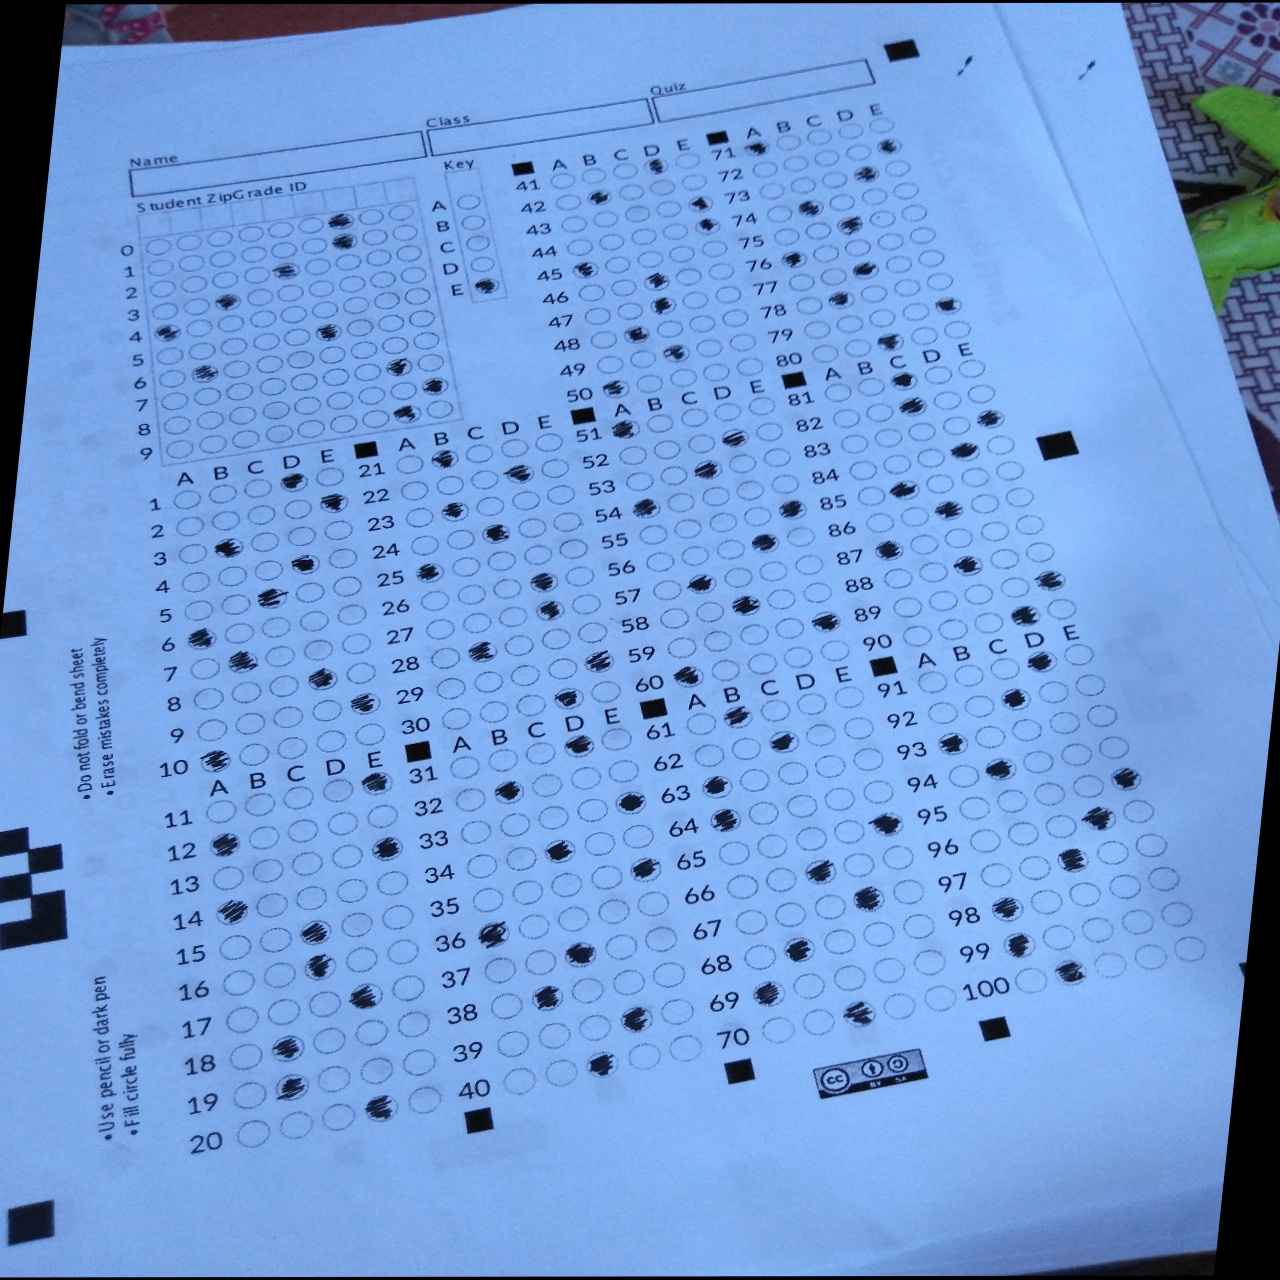not-c: (535, 1021, 576, 1050), (399, 1049, 440, 1078), (377, 903, 418, 932), (309, 1026, 350, 1055), (350, 1017, 392, 1047), (602, 932, 642, 961), (651, 960, 690, 989), (608, 966, 648, 995), (485, 992, 525, 1021), (493, 1029, 533, 1058), (666, 1034, 706, 1063), (388, 972, 428, 1001), (373, 870, 413, 899), (277, 1111, 316, 1141), (218, 968, 258, 998), (216, 933, 256, 962), (257, 926, 297, 955), (288, 849, 328, 878), (321, 809, 361, 838), (247, 857, 287, 886), (207, 863, 247, 892), (200, 798, 240, 828), (278, 784, 318, 813), (358, 1057, 399, 1085), (641, 925, 680, 954), (567, 975, 606, 1005), (625, 1042, 663, 1071), (499, 1067, 538, 1096), (382, 938, 421, 967), (333, 874, 372, 904), (338, 908, 376, 938), (342, 945, 381, 974), (231, 1081, 270, 1110), (261, 961, 300, 990), (252, 891, 291, 920), (328, 843, 367, 872), (240, 791, 279, 821), (319, 776, 358, 805), (658, 998, 697, 1026), (393, 1010, 433, 1039), (313, 1064, 353, 1092), (233, 1121, 273, 1149), (363, 803, 403, 831), (284, 817, 324, 845), (1039, 922, 1078, 951), (1169, 934, 1208, 962), (879, 993, 919, 1021), (758, 1017, 798, 1046), (829, 964, 869, 992), (910, 949, 949, 978), (898, 913, 938, 941), (859, 919, 899, 947), (819, 928, 859, 956), (740, 942, 779, 971), (811, 894, 851, 922), (888, 878, 928, 906), (576, 1014, 614, 1042), (542, 1058, 580, 1087), (406, 1085, 444, 1114), (319, 1102, 358, 1130), (225, 1042, 264, 1070), (264, 999, 302, 1027), (292, 883, 331, 911), (1118, 907, 1157, 935), (1131, 942, 1170, 971), (921, 983, 960, 1012), (798, 1009, 837, 1037), (790, 972, 829, 1000), (731, 907, 770, 935), (771, 900, 810, 928), (880, 843, 919, 871), (839, 849, 878, 877), (305, 990, 345, 1017), (223, 1007, 263, 1034), (243, 824, 282, 851), (1091, 951, 1131, 978), (869, 956, 908, 983), (1077, 915, 1116, 942), (1010, 966, 1049, 993), (509, 878, 545, 906), (549, 871, 585, 899), (1092, 840, 1131, 866), (782, 794, 821, 819), (503, 845, 539, 872), (497, 811, 533, 838), (523, 741, 559, 768), (535, 804, 571, 831), (567, 765, 604, 792), (605, 757, 641, 784), (598, 726, 634, 753), (620, 823, 656, 850), (517, 914, 553, 941), (522, 948, 558, 975), (482, 956, 518, 983), (736, 767, 772, 794), (967, 828, 1005, 853), (1003, 821, 1041, 846), (976, 862, 1014, 887), (1027, 890, 1064, 915), (831, 819, 869, 845), (821, 787, 858, 812), (850, 747, 887, 772), (728, 736, 765, 762), (756, 697, 794, 723), (831, 685, 869, 710), (1068, 775, 1107, 799), (1041, 813, 1080, 838), (1065, 881, 1104, 906), (971, 610, 1006, 636), (471, 886, 506, 913), (529, 771, 564, 798), (588, 864, 624, 891), (583, 831, 618, 858), (576, 797, 611, 824), (635, 891, 670, 918), (554, 905, 590, 932), (595, 898, 632, 924), (1016, 855, 1053, 880), (763, 866, 799, 892), (716, 840, 753, 866), (859, 779, 896, 805), (745, 801, 782, 826), (774, 760, 810, 785), (945, 764, 982, 789), (1019, 749, 1056, 774), (1107, 874, 1144, 899), (754, 835, 791, 859), (794, 692, 831, 716), (937, 617, 971, 644), (900, 622, 935, 648), (816, 638, 851, 663), (736, 622, 771, 648), (485, 747, 520, 772), (812, 753, 847, 778), (1096, 735, 1132, 760), (1032, 782, 1068, 806), (956, 796, 993, 821), (1132, 832, 1169, 857), (1159, 901, 1196, 926), (794, 828, 830, 852), (840, 716, 877, 741), (802, 722, 838, 747), (683, 712, 720, 736), (1034, 680, 1071, 703), (924, 701, 961, 724), (745, 652, 779, 678), (701, 628, 735, 654), (784, 524, 819, 549), (670, 516, 706, 540), (663, 490, 699, 515), (751, 421, 787, 445), (710, 399, 745, 423), (462, 441, 497, 465), (509, 489, 544, 513), (444, 527, 479, 552), (556, 537, 591, 561), (476, 699, 511, 723), (561, 564, 597, 588), (588, 680, 624, 704), (338, 631, 373, 655), (334, 602, 369, 627), (207, 509, 243, 533), (278, 496, 313, 520), (321, 517, 356, 542), (1058, 742, 1094, 767), (1121, 798, 1156, 823), (1146, 866, 1182, 891), (692, 742, 727, 767), (914, 669, 951, 693), (961, 695, 998, 719), (1008, 719, 1044, 742), (1046, 710, 1082, 734), (994, 790, 1030, 813), (724, 874, 761, 898), (781, 646, 815, 670), (708, 658, 742, 682), (772, 617, 806, 641), (665, 635, 699, 660), (658, 607, 692, 632), (642, 550, 676, 574), (678, 544, 712, 568), (726, 452, 760, 477), (636, 524, 670, 549), (745, 394, 779, 418), (467, 468, 501, 492), (474, 493, 508, 518), (515, 517, 549, 542), (520, 543, 554, 567), (484, 550, 518, 574), (459, 610, 493, 634), (513, 694, 547, 719), (508, 663, 542, 688), (568, 592, 602, 617), (429, 646, 463, 670), (422, 617, 456, 641), (440, 707, 474, 731), (309, 699, 343, 723), (270, 704, 304, 729), (192, 686, 226, 710), (195, 719, 229, 743), (301, 638, 335, 662), (297, 610, 331, 634), (183, 598, 217, 622), (181, 570, 215, 594), (205, 481, 239, 505), (215, 564, 248, 588), (244, 503, 278, 527), (241, 475, 275, 499), (285, 524, 319, 549), (447, 755, 481, 779), (792, 553, 828, 577), (720, 565, 755, 588), (733, 479, 768, 503), (621, 470, 656, 493), (683, 433, 719, 456), (532, 430, 567, 454), (397, 478, 433, 502), (537, 457, 572, 481), (448, 554, 483, 578), (452, 583, 488, 606), (471, 670, 506, 694), (502, 634, 537, 658), (490, 577, 525, 600), (313, 730, 348, 754), (274, 737, 309, 761), (232, 712, 267, 735), (229, 681, 264, 704), (343, 662, 379, 686), (263, 645, 298, 668), (259, 617, 294, 640), (331, 574, 366, 598), (218, 593, 253, 617), (168, 488, 203, 511), (326, 547, 361, 571), (452, 787, 488, 810), (465, 855, 501, 878), (987, 656, 1022, 680), (971, 726, 1006, 749), (1084, 703, 1119, 727), (905, 421, 939, 444), (821, 381, 855, 404), (862, 402, 896, 425), (693, 599, 727, 622), (764, 588, 798, 612), (801, 581, 835, 605), (756, 559, 790, 583), (651, 579, 685, 602), (714, 538, 748, 561), (699, 485, 733, 509), (767, 474, 801, 497), (656, 464, 690, 488), (617, 444, 651, 468), (649, 437, 683, 461), (760, 445, 794, 469), (678, 406, 712, 429), (644, 410, 678, 434), (497, 436, 531, 459), (392, 452, 425, 476), (433, 474, 467, 497), (544, 484, 578, 508), (403, 505, 437, 529), (407, 535, 441, 558), (550, 511, 584, 535), (418, 588, 452, 612), (495, 606, 529, 629), (576, 621, 610, 645), (546, 658, 580, 681), (539, 627, 573, 651), (433, 676, 467, 700), (353, 723, 387, 747), (237, 743, 271, 767), (267, 675, 301, 699), (190, 658, 224, 681), (223, 621, 257, 645), (294, 581, 328, 605), (176, 542, 210, 565), (173, 515, 207, 538), (251, 559, 285, 583), (247, 531, 281, 554), (314, 465, 348, 489), (459, 821, 493, 844), (1073, 673, 1107, 696), (951, 663, 986, 686), (881, 452, 914, 476), (829, 406, 862, 429), (962, 584, 995, 607), (999, 576, 1032, 599), (377, 334, 411, 356), (965, 383, 999, 406), (922, 472, 956, 495), (930, 390, 964, 413), (881, 566, 915, 588), (706, 512, 740, 535), (741, 505, 775, 527), (915, 448, 947, 471), (838, 433, 870, 456), (872, 427, 904, 450), (941, 415, 973, 438), (927, 588, 959, 612), (352, 362, 384, 384), (809, 341, 842, 363), (1003, 485, 1036, 508), (978, 519, 1010, 542), (907, 532, 940, 554), (898, 505, 931, 527), (968, 492, 1001, 515), (845, 458, 878, 481), (922, 363, 955, 386), (855, 376, 887, 399), (917, 561, 949, 584), (1046, 597, 1078, 619), (891, 595, 924, 618), (1061, 644, 1094, 666), (908, 325, 942, 346), (992, 459, 1026, 481), (1012, 513, 1046, 535), (942, 527, 976, 549), (348, 340, 380, 362), (375, 312, 407, 334), (857, 282, 888, 305), (324, 390, 356, 411), (686, 314, 719, 335), (608, 278, 641, 299), (588, 207, 621, 229), (941, 318, 974, 339), (842, 336, 874, 358), (956, 358, 989, 379), (1023, 542, 1056, 563), (987, 549, 1020, 570), (863, 512, 896, 533), (855, 485, 887, 506), (959, 467, 992, 488), (983, 435, 1017, 455), (355, 386, 387, 407), (343, 318, 375, 339), (340, 295, 372, 316), (367, 268, 399, 290), (216, 312, 247, 333), (183, 316, 215, 338), (217, 336, 248, 358), (291, 395, 322, 416), (295, 418, 327, 440), (263, 424, 294, 445), (230, 429, 261, 450), (197, 434, 229, 455), (653, 319, 685, 340), (693, 216, 724, 237), (595, 232, 627, 253), (628, 227, 660, 248), (666, 243, 697, 264), (699, 238, 730, 259), (634, 248, 666, 270), (673, 267, 704, 288), (712, 285, 743, 306), (719, 308, 750, 329), (654, 198, 686, 219), (678, 172, 709, 193), (578, 166, 610, 188), (640, 156, 672, 177), (147, 279, 179, 299), (248, 332, 281, 352), (704, 263, 737, 282), (679, 290, 712, 309), (842, 238, 874, 258), (802, 319, 835, 339), (890, 278, 922, 298), (686, 195, 719, 215), (279, 304, 309, 325), (157, 368, 188, 389), (320, 366, 350, 387), (614, 301, 645, 322), (647, 177, 678, 198), (621, 203, 652, 224), (393, 243, 424, 263), (406, 308, 437, 328), (328, 414, 360, 434), (338, 274, 369, 294), (306, 278, 338, 298), (244, 287, 275, 307), (309, 299, 341, 319), (182, 297, 213, 316), (155, 345, 186, 365), (284, 349, 315, 369), (316, 345, 348, 365), (257, 376, 288, 396), (224, 381, 256, 401), (161, 415, 192, 435), (195, 410, 226, 430), (467, 254, 498, 274), (576, 282, 607, 302), (734, 358, 765, 377), (693, 338, 724, 358), (659, 222, 690, 241), (907, 226, 939, 246), (874, 232, 906, 252), (787, 273, 818, 293), (795, 295, 826, 315), (835, 314, 866, 334), (915, 248, 947, 268), (585, 188, 617, 207), (922, 271, 955, 290), (178, 275, 209, 295), (302, 257, 333, 277), (410, 331, 441, 350), (370, 290, 401, 309), (275, 282, 306, 302), (247, 308, 278, 328), (150, 301, 181, 321), (188, 341, 218, 361), (281, 327, 312, 347), (220, 358, 251, 377), (253, 354, 284, 374), (290, 372, 320, 392), (192, 386, 223, 406), (159, 392, 190, 411), (226, 406, 257, 425), (260, 400, 291, 420), (164, 440, 195, 459), (558, 215, 588, 234), (588, 331, 619, 350), (595, 355, 626, 375), (634, 373, 665, 393), (701, 362, 731, 382), (615, 183, 646, 203), (891, 181, 921, 200), (866, 307, 897, 327), (900, 301, 931, 321), (299, 237, 331, 256), (207, 271, 239, 290), (332, 253, 363, 272), (359, 229, 390, 247), (384, 204, 416, 223), (360, 410, 392, 429), (462, 233, 493, 252), (564, 238, 595, 257), (727, 334, 758, 353), (810, 244, 842, 263), (883, 256, 914, 274), (356, 207, 386, 227), (611, 161, 640, 181), (774, 132, 803, 152), (845, 142, 874, 162), (779, 154, 809, 173), (788, 175, 817, 195), (821, 169, 850, 189), (883, 158, 912, 178), (803, 222, 832, 241), (899, 203, 928, 223), (241, 266, 272, 285), (363, 248, 394, 267), (399, 265, 429, 284), (424, 400, 455, 418), (388, 381, 418, 400), (454, 192, 484, 211), (549, 172, 579, 191), (552, 193, 583, 212), (583, 306, 613, 325), (627, 350, 658, 369), (667, 368, 697, 387), (818, 267, 849, 286), (812, 147, 840, 166), (751, 159, 779, 179), (862, 186, 890, 206), (772, 226, 801, 246), (869, 209, 897, 229), (236, 225, 267, 243), (390, 224, 420, 243), (403, 286, 433, 305), (416, 353, 445, 372), (458, 215, 488, 233), (804, 127, 833, 145), (866, 116, 896, 135), (764, 204, 794, 223), (143, 238, 173, 256), (172, 234, 203, 252), (204, 230, 234, 247), (266, 222, 297, 239), (295, 217, 326, 234), (239, 245, 270, 263), (177, 256, 207, 273), (672, 152, 702, 170), (758, 182, 787, 200), (826, 193, 855, 212), (270, 241, 299, 259), (207, 251, 237, 268), (836, 123, 865, 141), (147, 259, 177, 275)
taken-c: (268, 1032, 308, 1064), (560, 939, 601, 971), (361, 1092, 401, 1124), (583, 1049, 622, 1081), (617, 1005, 656, 1036), (474, 920, 515, 951), (272, 1070, 312, 1101), (529, 983, 568, 1014), (799, 858, 840, 887), (847, 885, 888, 914), (748, 979, 789, 1008), (301, 952, 339, 983), (779, 934, 819, 964), (838, 1001, 878, 1030), (1000, 931, 1040, 960), (1053, 845, 1092, 874), (1081, 805, 1121, 835), (1107, 764, 1148, 792), (347, 982, 386, 1012), (611, 790, 651, 818), (549, 686, 588, 714), (1050, 958, 1090, 986), (986, 896, 1026, 924), (297, 919, 335, 947), (627, 856, 666, 884), (490, 778, 529, 806), (697, 772, 736, 801), (542, 837, 579, 865), (867, 811, 905, 839), (559, 733, 598, 760), (581, 648, 620, 675), (463, 639, 502, 666), (706, 806, 744, 833), (213, 898, 251, 925), (370, 836, 407, 863), (981, 756, 1017, 783), (1024, 647, 1061, 674), (869, 537, 907, 561), (935, 731, 971, 758), (998, 685, 1033, 712), (767, 729, 803, 755), (1008, 602, 1046, 627), (949, 554, 987, 579), (928, 499, 966, 524), (885, 478, 922, 503), (947, 441, 985, 465), (477, 523, 512, 549), (429, 447, 464, 472), (720, 704, 755, 730), (205, 832, 241, 857), (1033, 568, 1069, 593), (972, 408, 1008, 433), (670, 663, 704, 689), (347, 692, 382, 716), (526, 571, 561, 595), (438, 501, 474, 525), (502, 462, 537, 486), (886, 370, 922, 394), (533, 598, 567, 622), (413, 560, 447, 585), (809, 610, 843, 634), (212, 537, 247, 560), (226, 651, 261, 674), (198, 749, 233, 772), (618, 324, 653, 347), (690, 458, 726, 482), (628, 497, 663, 520), (728, 593, 763, 617), (897, 395, 932, 418), (185, 627, 219, 651), (304, 668, 338, 692), (361, 771, 395, 795), (608, 417, 642, 441), (719, 425, 753, 449), (599, 377, 633, 401), (749, 531, 783, 554), (685, 572, 719, 595), (775, 248, 810, 271), (568, 258, 601, 281), (288, 553, 322, 576), (256, 587, 290, 610), (873, 331, 907, 353), (931, 294, 965, 316), (824, 290, 858, 312), (847, 260, 881, 282), (849, 163, 883, 185), (658, 343, 693, 365), (775, 499, 810, 520), (645, 295, 678, 318), (567, 258, 600, 280), (873, 135, 906, 157), (794, 198, 828, 219), (641, 272, 673, 294), (418, 375, 451, 396), (392, 404, 424, 425), (277, 471, 309, 492), (318, 492, 350, 513), (833, 215, 866, 236), (331, 231, 361, 252), (271, 261, 301, 282), (190, 363, 220, 384), (743, 138, 774, 159), (382, 358, 414, 377), (472, 275, 502, 297), (314, 321, 343, 342), (154, 321, 183, 342), (326, 211, 356, 231), (213, 292, 243, 312)
